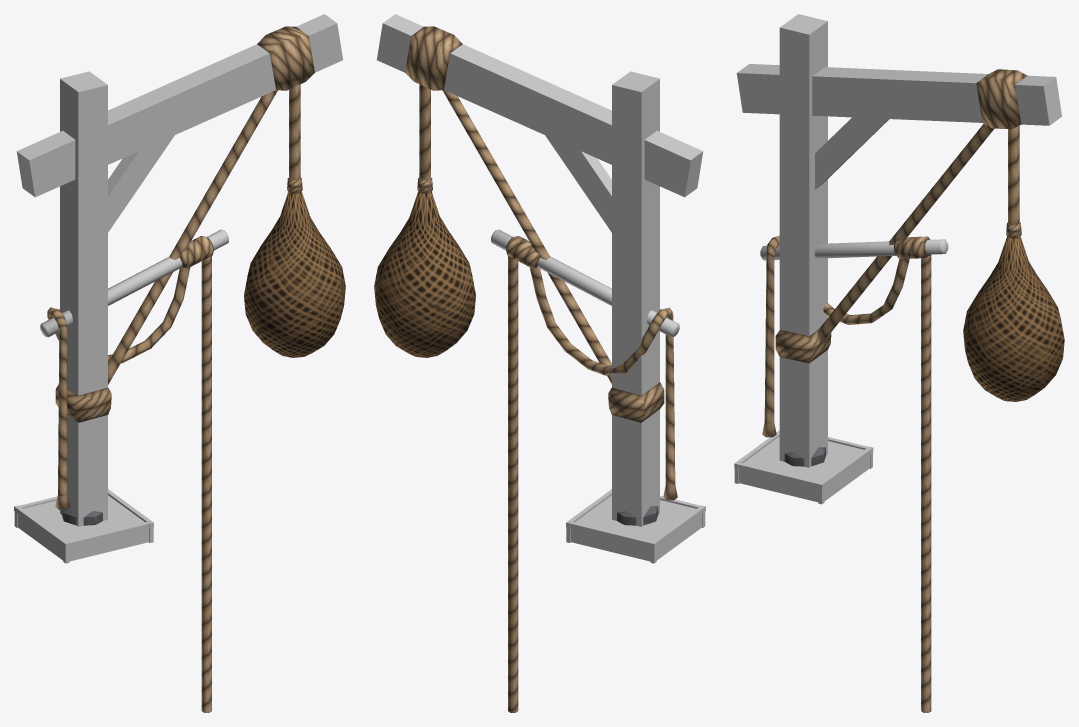
Rendered from fishing.fbx.
3 renders of one model, left to right at view 1: azimuth 30°, elevation 25°; view 2: azimuth 150°, elevation 25°; view 3: azimuth 330°, elevation 25°, orthographic.
Parts seen in each view (by area): view 1: wood, net, rope.001, rope, stand, logs; view 2: wood, net, rope.001, rope, stand, logs; view 3: wood, net, rope.001, rope, stand, logs.
Part boxes in pixels (left/top/right/bottom): wood: left=16, top=14, right=342, bottom=526; net: left=244, top=191, right=345, bottom=357; rope.001: left=47, top=236, right=213, bottom=712; rope: left=55, top=26, right=314, bottom=422; stand: left=14, top=489, right=153, bottom=563; logs: left=40, top=229, right=228, bottom=337; wood: left=377, top=14, right=703, bottom=526; net: left=374, top=191, right=475, bottom=357; rope.001: left=506, top=236, right=677, bottom=712; rope: left=405, top=26, right=664, bottom=422; stand: left=566, top=489, right=705, bottom=563; logs: left=491, top=229, right=679, bottom=337; wood: left=736, top=14, right=1061, bottom=467; net: left=963, top=236, right=1064, bottom=401; rope.001: left=762, top=235, right=931, bottom=712; rope: left=775, top=69, right=1027, bottom=363; stand: left=734, top=430, right=873, bottom=504; logs: left=760, top=239, right=948, bottom=260.
Bounding box in the file's own units: 89.02 × 624 × 311.
